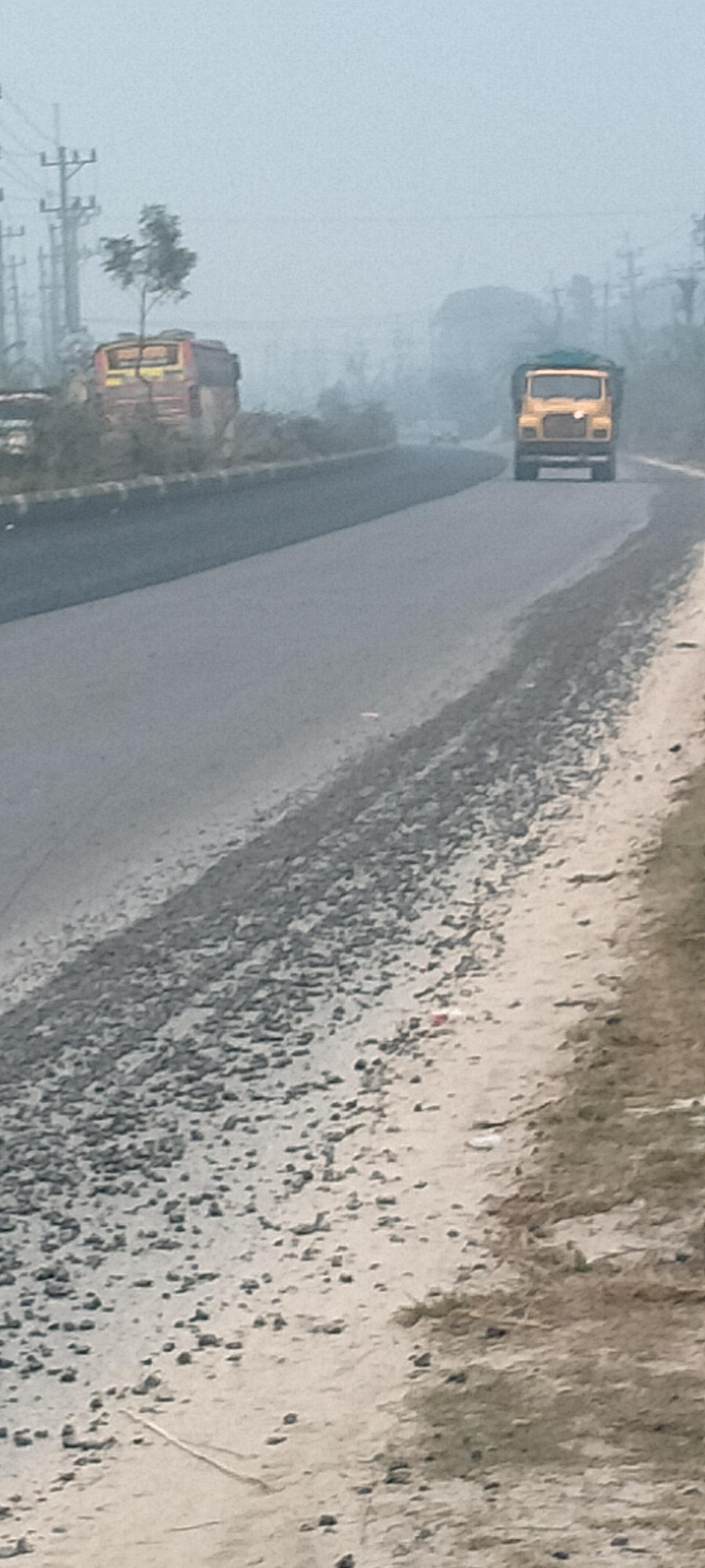Bus: (81, 312, 268, 465)
Truck: (486, 341, 634, 490)
